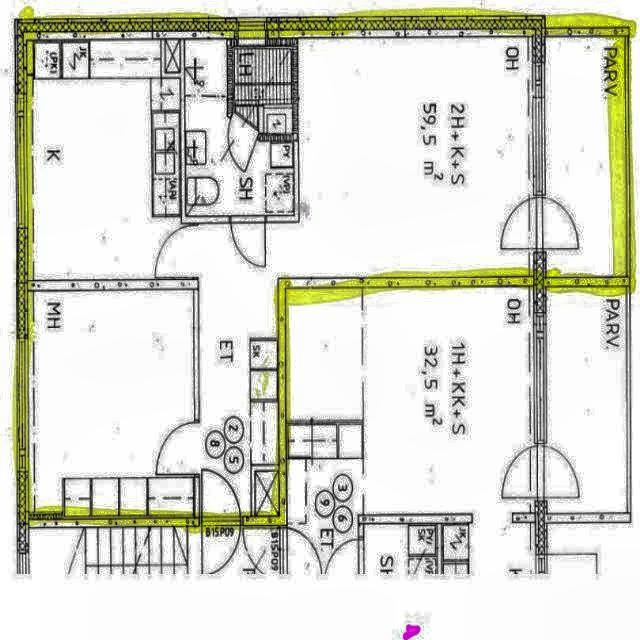room: (28, 291, 193, 519), (26, 40, 181, 280), (185, 39, 294, 215), (234, 46, 292, 134)
